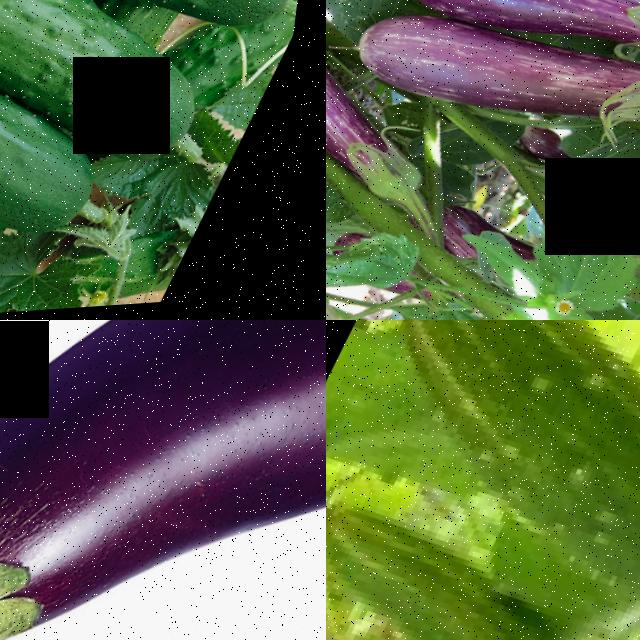cucumber: (326, 320, 640, 640), (0, 0, 265, 188), (326, 499, 640, 640), (0, 0, 154, 276), (0, 0, 326, 66)
eggplant: (0, 320, 326, 640), (340, 0, 640, 201), (326, 23, 474, 220), (384, 0, 640, 110)
